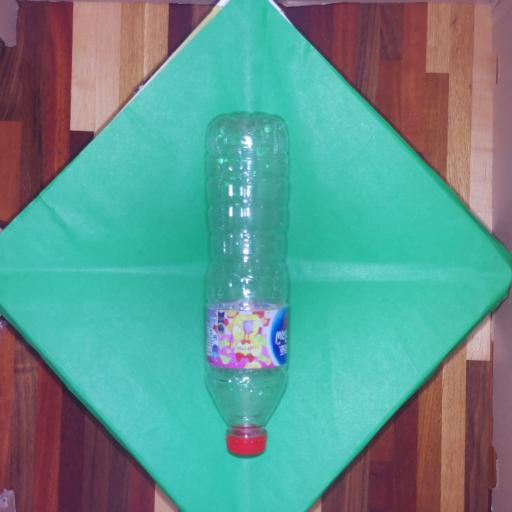bottle: (206, 116, 288, 455)
